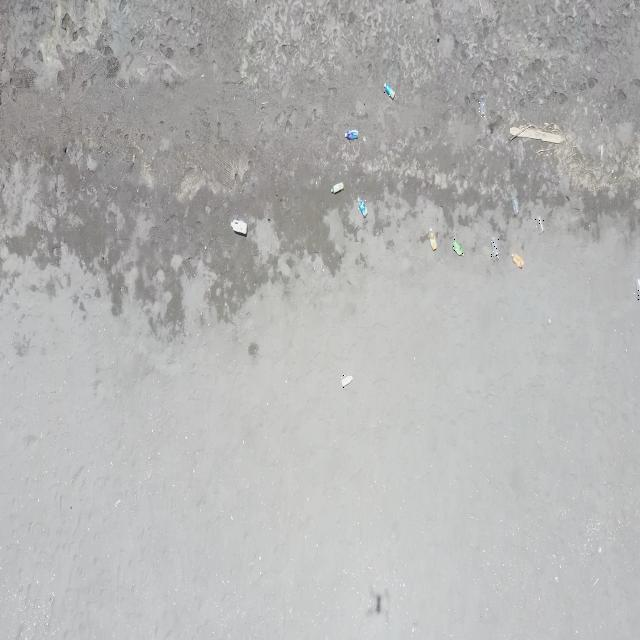plastic-bottle: (230, 217, 249, 237), (451, 239, 464, 258), (511, 251, 524, 269), (427, 230, 437, 253), (331, 180, 346, 195), (357, 198, 367, 220), (383, 83, 395, 101), (343, 129, 360, 141), (341, 375, 353, 390), (535, 215, 545, 233)
takeaway-cup: (511, 196, 520, 218), (490, 236, 499, 258), (478, 95, 486, 117), (634, 276, 640, 300)
